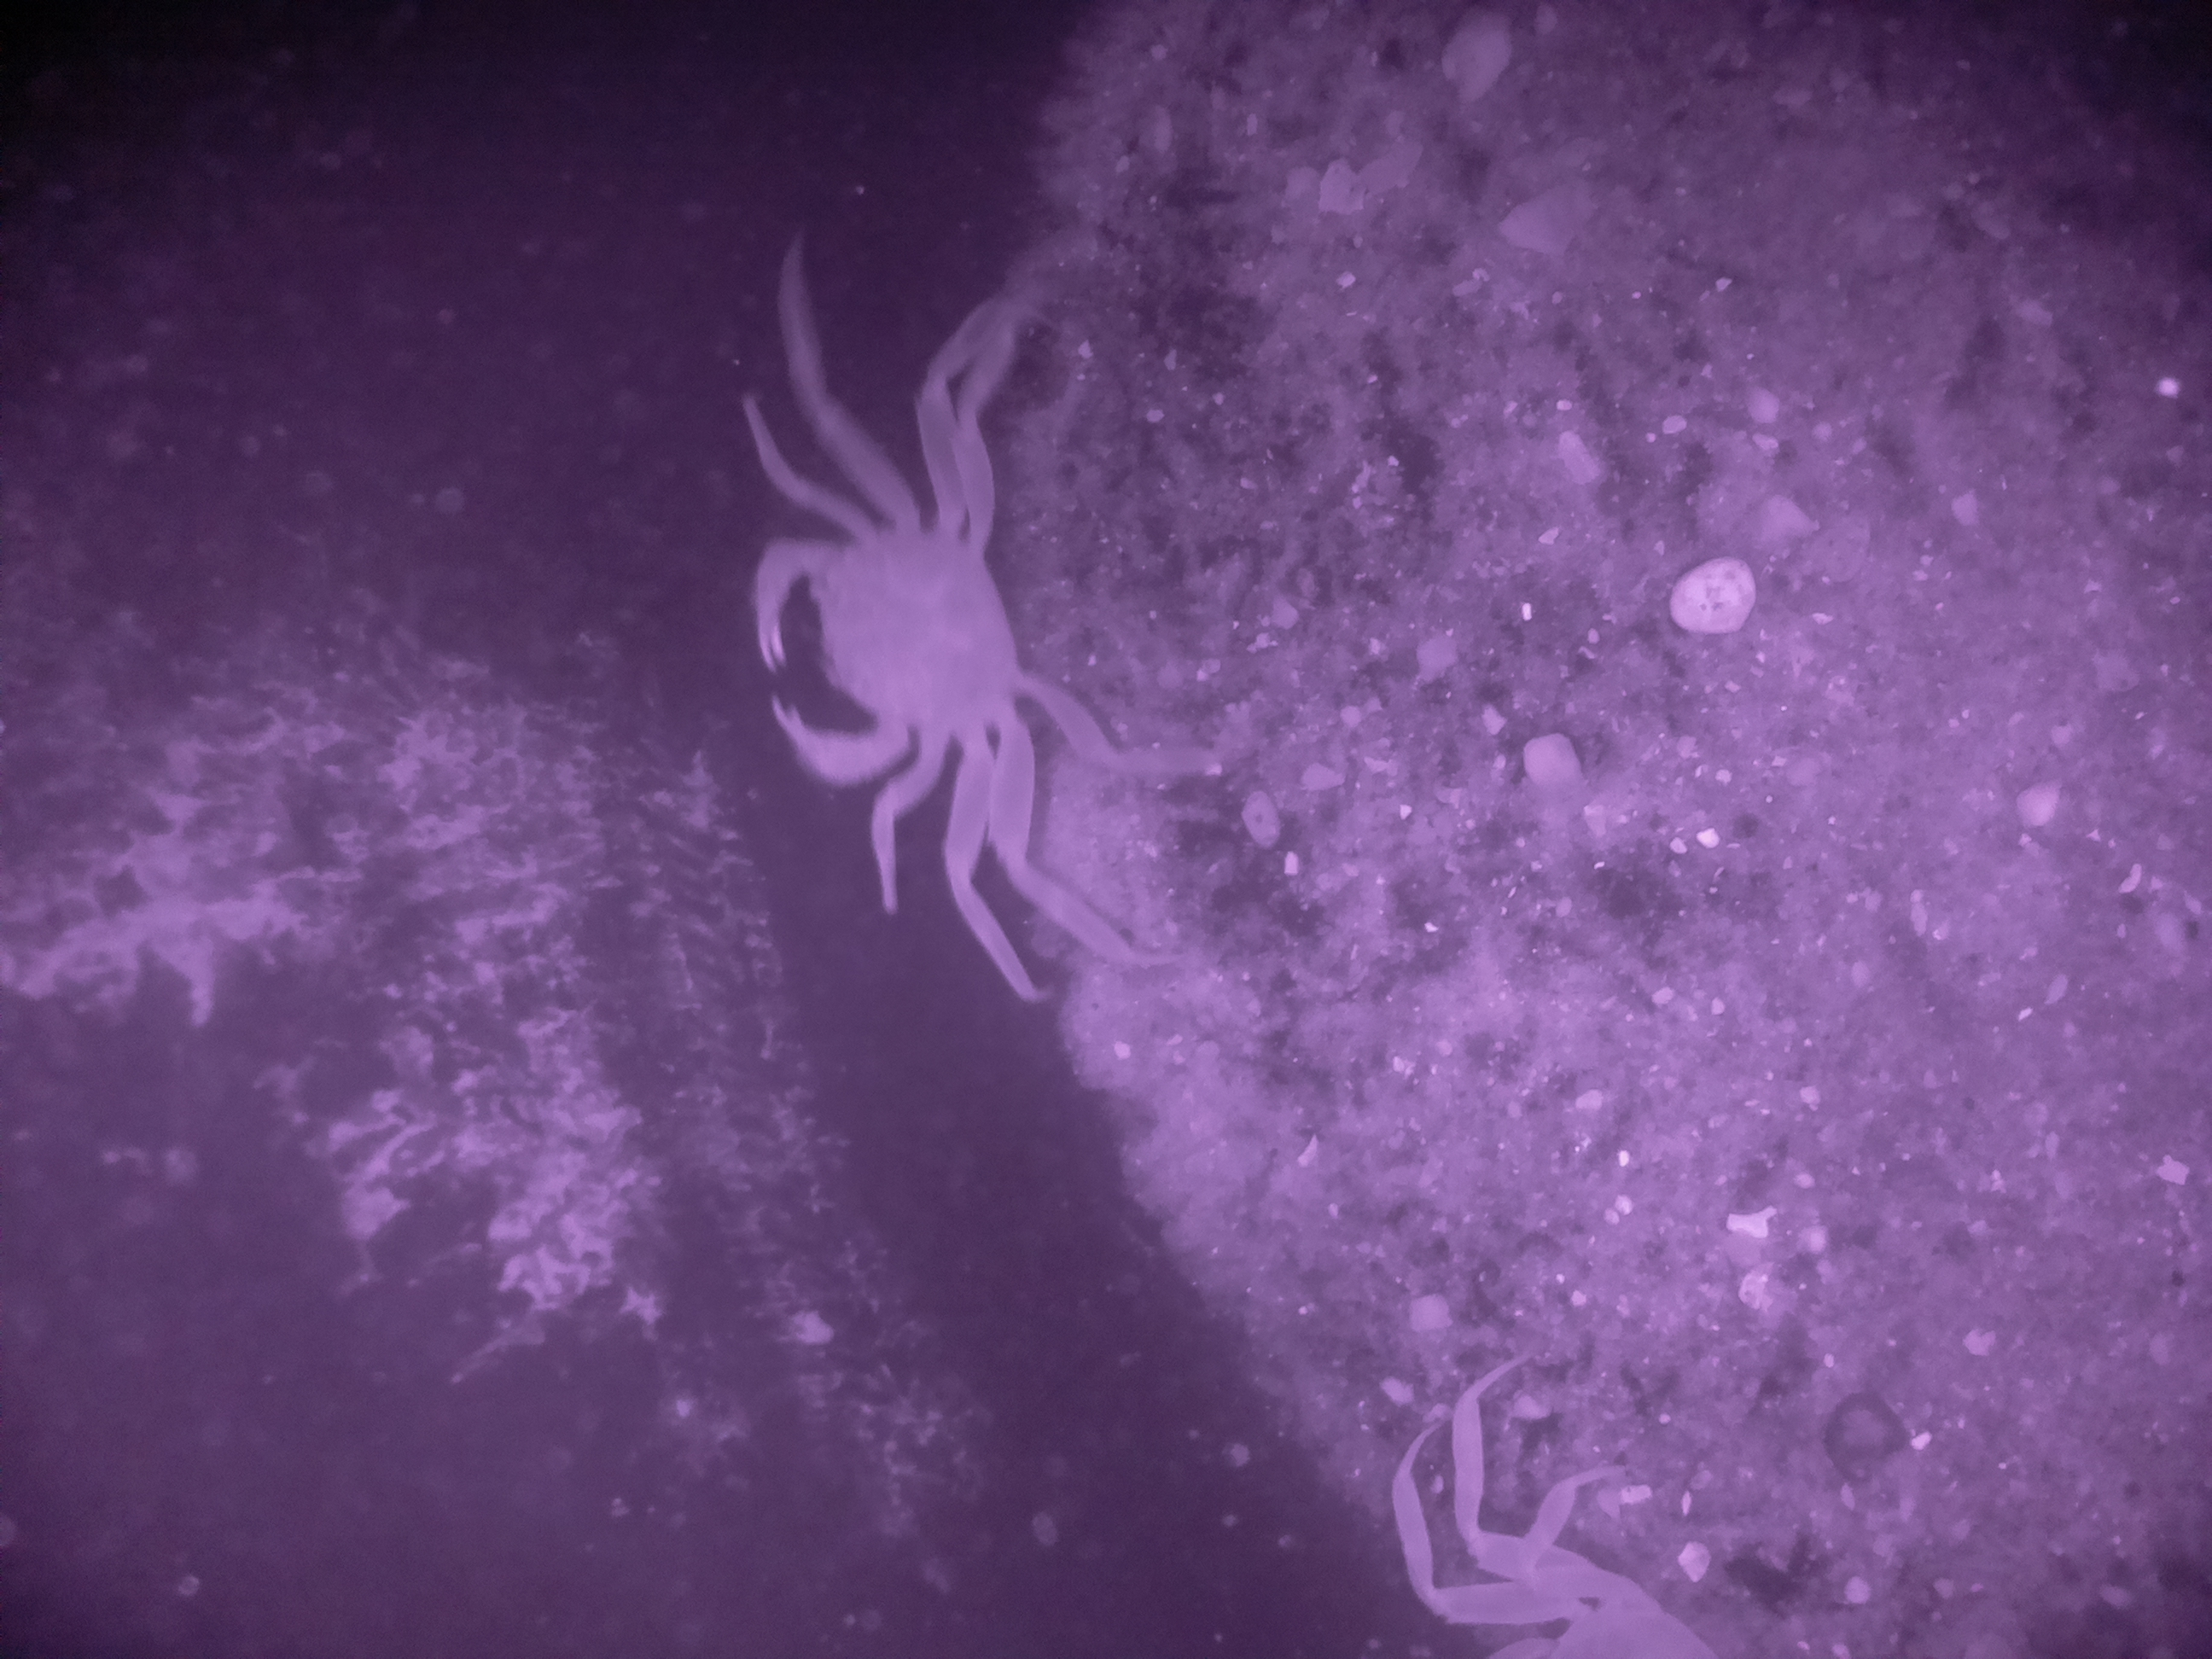Crab: (697, 359, 1165, 917)
